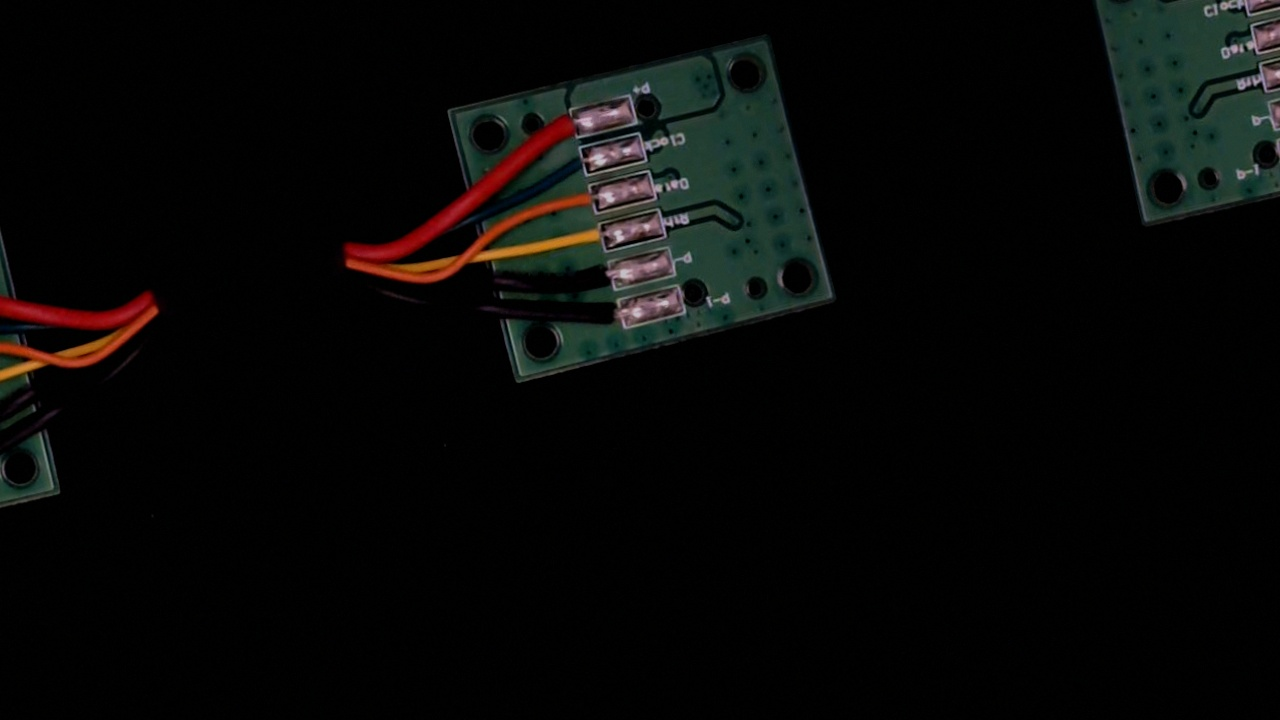Black: (551, 254, 630, 305)
Black1: (567, 294, 641, 343)
Green: (530, 142, 607, 193)
Orange: (536, 181, 614, 230)
Red: (515, 103, 592, 153)
Yellow: (543, 218, 624, 269)
